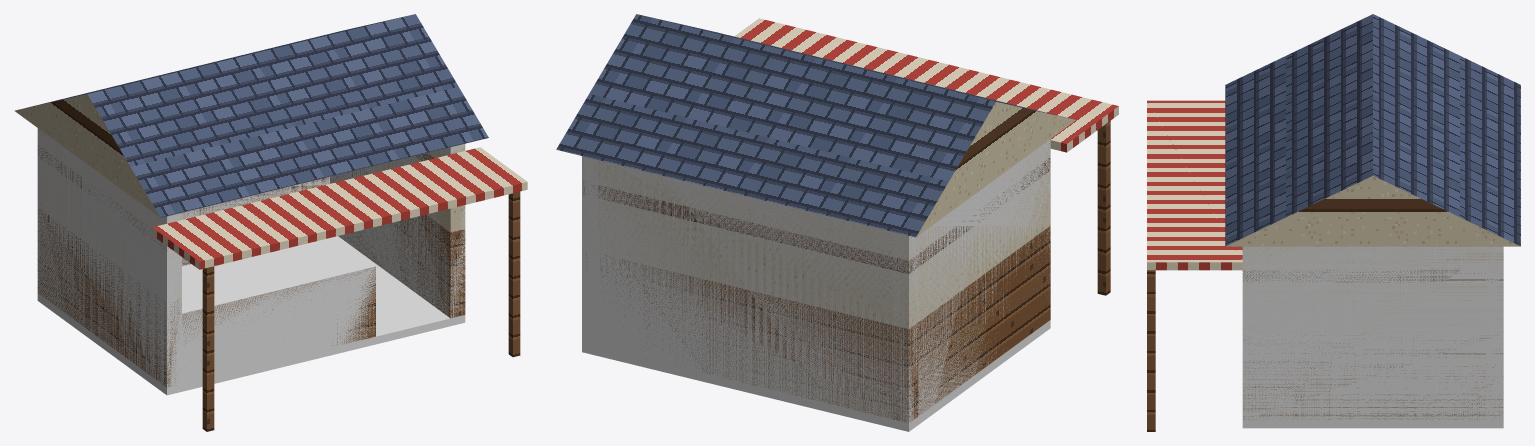
File: shop.glb
3 views of the same model, side by side, from view 1: azimuth 30°, elevation 25°; view 2: azimuth 150°, elevation 25°; view 3: azimuth 270°, elevation 25° (orthographic). The views are drawn at different scales.
Visible parts, largest first — view 1: roof, col_wall_west, awning, col_counter, col_floor, col_wall_east, wall_west_low, wall_east_low, wall_west_high, awning_post_+2, awning_post_-2, col_wall_north (+3 smaller); view 2: roof, col_wall_north, wall_north_high, col_wall_west, wall_north_low, wall_west_low, awning, wall_west_high, col_floor, col_wall_east, awning_post_-2; view 3: roof, col_wall_east, awning, wall_east_high, col_floor, wall_east_low, col_wall_north, awning_post_+2.
Boxes of the visible parts, box(x1,y1,x2,y2) form: roof: box(14, 14, 488, 217); col_wall_west: box(37, 129, 181, 394); awning: box(152, 147, 527, 269); col_counter: box(182, 254, 375, 391); col_floor: box(37, 236, 465, 395); col_wall_east: box(330, 144, 465, 325); wall_west_low: box(37, 209, 181, 387); wall_east_low: box(330, 169, 465, 318); wall_west_high: box(37, 129, 181, 298); awning_post_+2: box(508, 191, 520, 357); awning_post_-2: box(202, 266, 214, 431); col_wall_north: box(37, 128, 329, 299); roof: box(556, 14, 1075, 237); col_wall_north: box(582, 156, 918, 430); wall_north_high: box(582, 158, 918, 328); col_wall_west: box(892, 139, 1050, 431); wall_north_low: box(586, 252, 918, 422); wall_west_low: box(892, 226, 1050, 422); awning: box(734, 18, 1118, 152); wall_west_high: box(893, 140, 1050, 327); col_floor: box(598, 320, 1050, 431); col_wall_east: box(582, 156, 598, 355); awning_post_-2: box(1097, 121, 1110, 295); roof: box(1225, 14, 1520, 246); col_wall_east: box(1242, 246, 1503, 428); awning: box(1147, 100, 1242, 270); wall_east_high: box(1242, 246, 1503, 332); col_floor: box(1242, 420, 1503, 428); wall_east_low: box(1242, 335, 1502, 419); col_wall_north: box(1486, 246, 1503, 428); awning_post_+2: box(1147, 270, 1155, 431).
Size of the model in its own units: 4.4 by 3.3 by 4.3.
Materials: 5 (5 with a texture image).
